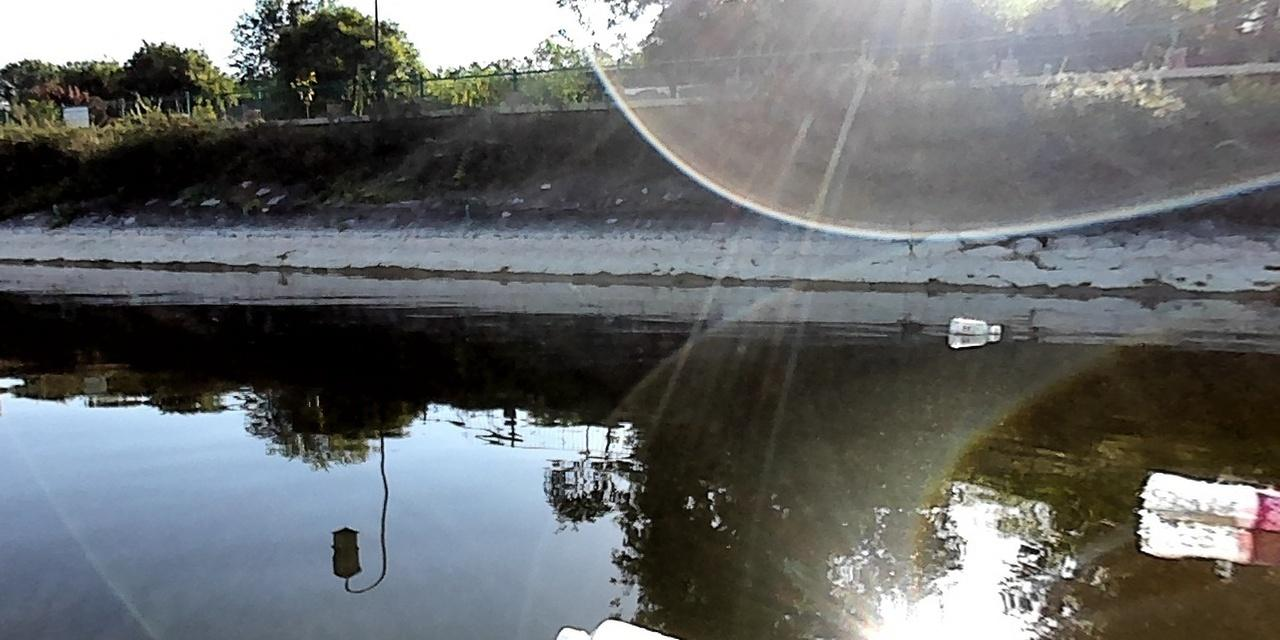bottle: (1139, 464, 1279, 534), (946, 312, 1003, 336)
